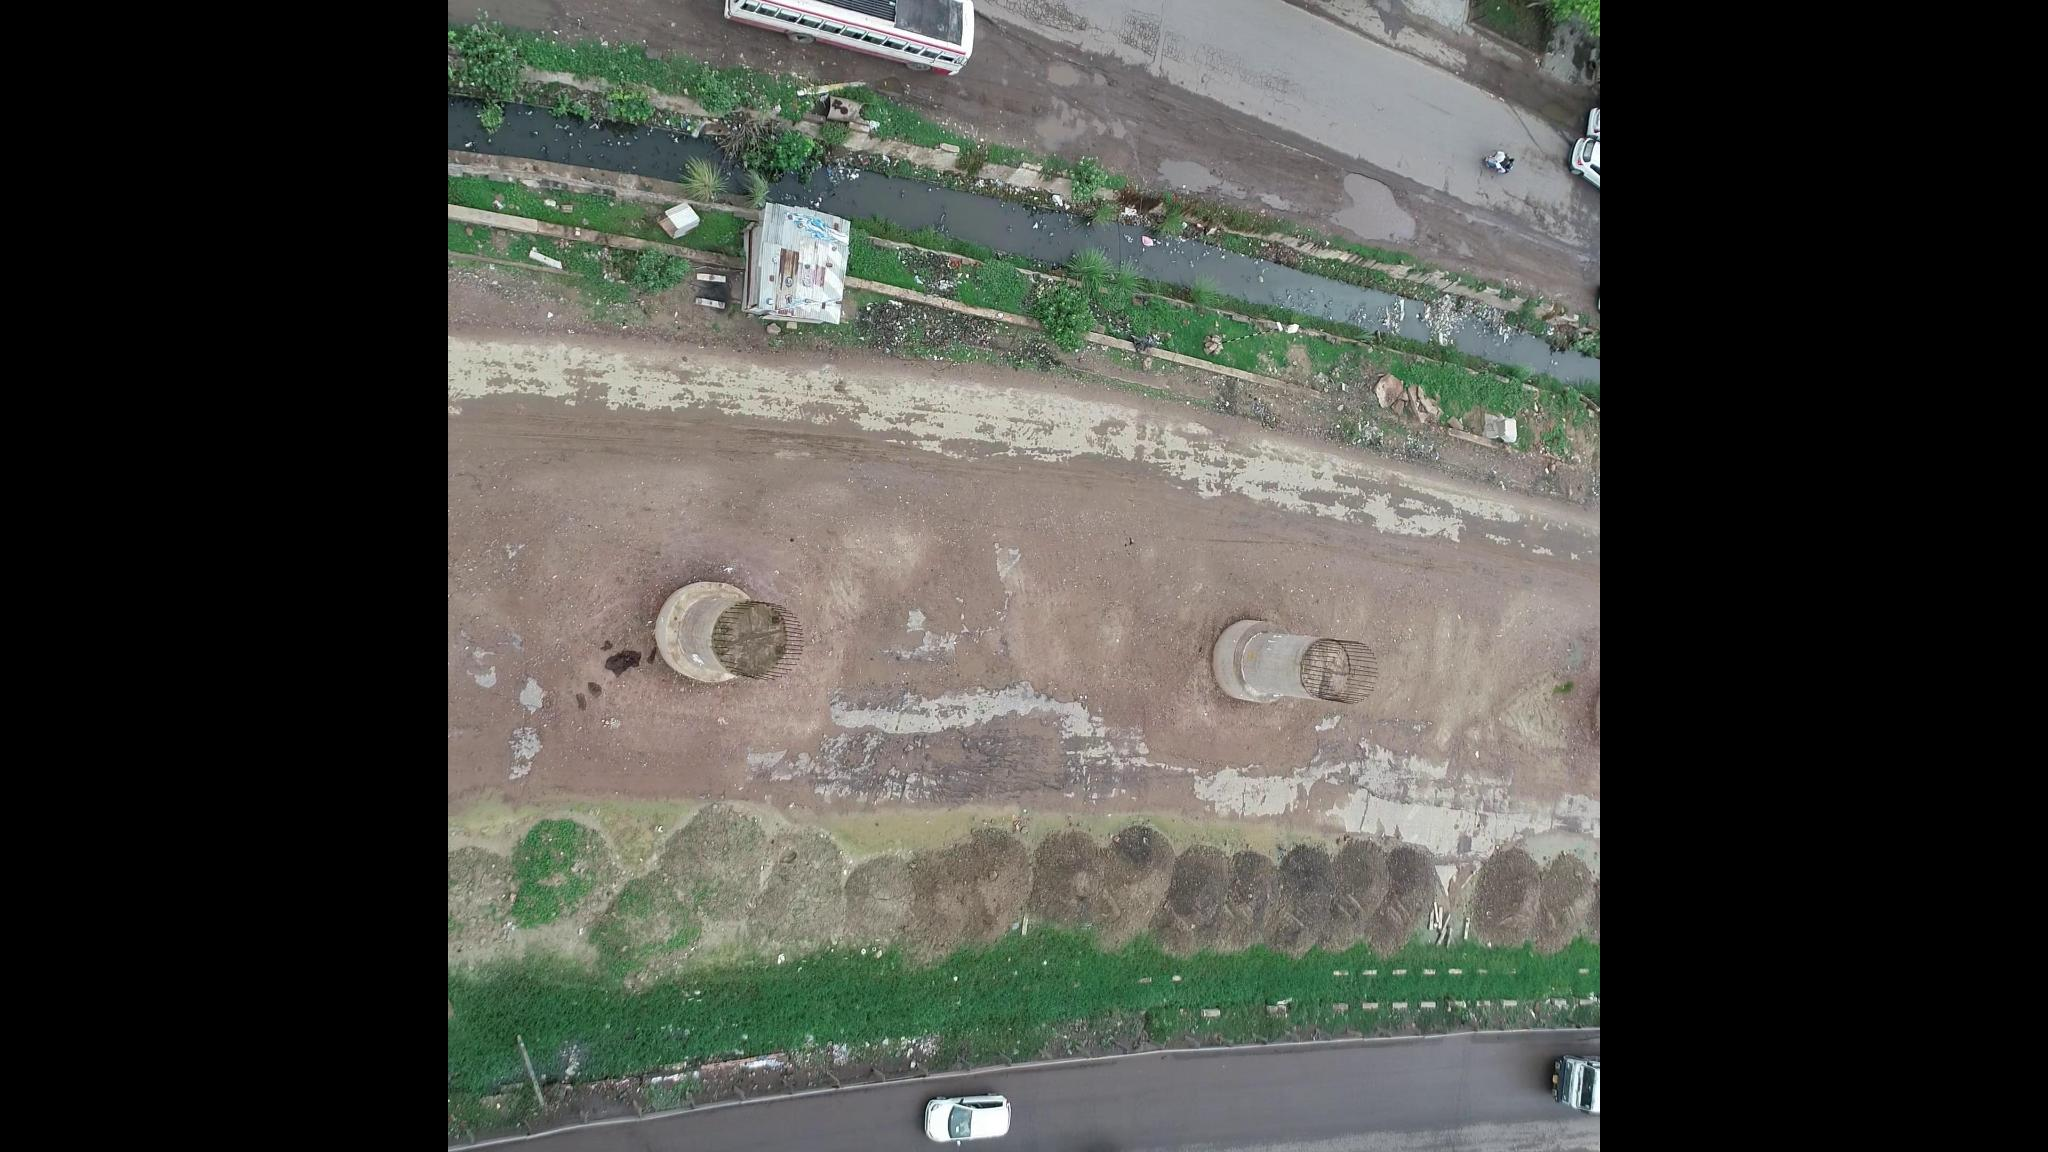Cracks: (1129, 15, 1293, 96), (978, 1, 1099, 37)
